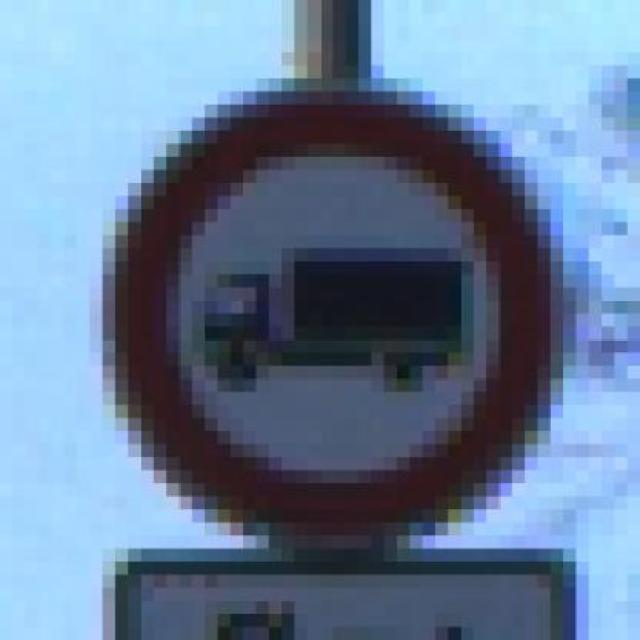Truck traffic is prohibited: (93, 80, 567, 562)
